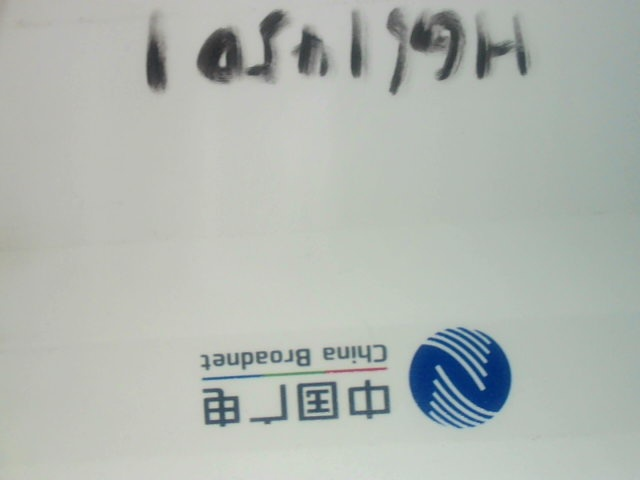AW_ChinaBroadNet: (190, 313, 519, 444)
